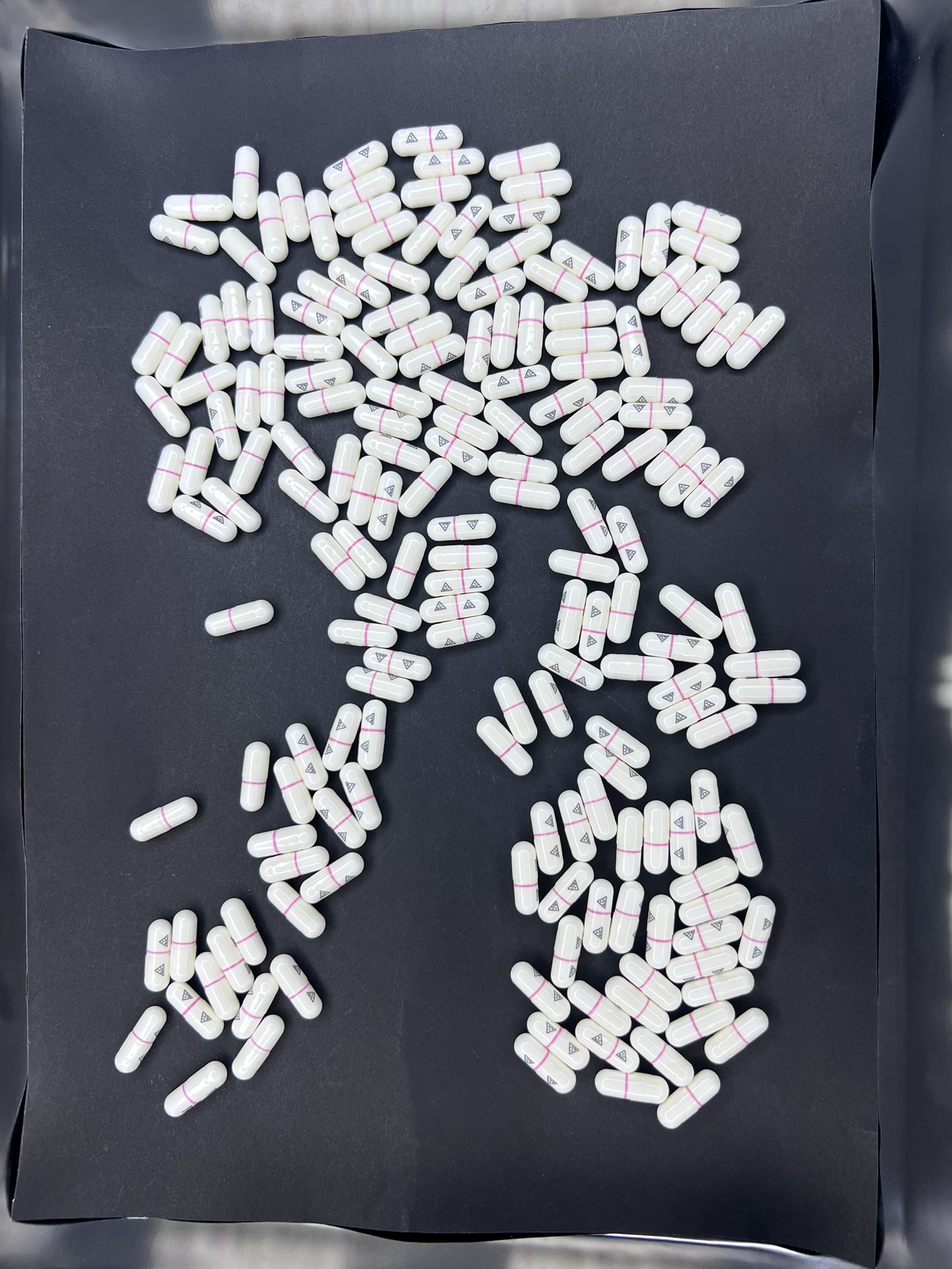Capsule: (628, 1025, 694, 1087), (680, 279, 742, 345), (661, 264, 723, 329), (726, 304, 786, 371), (697, 300, 756, 368), (600, 428, 669, 486), (325, 258, 400, 311), (605, 974, 671, 1034), (514, 1033, 577, 1095), (658, 446, 721, 507), (164, 1059, 228, 1119), (114, 1003, 167, 1075), (658, 1071, 722, 1130), (399, 202, 458, 266), (618, 953, 682, 1012), (643, 426, 708, 484), (704, 1006, 769, 1064), (556, 391, 622, 448), (685, 456, 747, 516), (674, 967, 753, 1014), (562, 419, 626, 477), (582, 744, 647, 801), (512, 960, 571, 1022), (232, 1013, 285, 1082), (526, 1012, 590, 1069), (438, 193, 493, 259), (200, 478, 262, 536), (166, 979, 224, 1041), (270, 953, 322, 1022), (584, 714, 650, 768), (666, 1000, 737, 1050), (267, 879, 327, 938), (309, 532, 368, 592), (668, 856, 740, 905), (134, 376, 190, 439), (655, 686, 727, 735), (539, 860, 592, 926), (549, 239, 615, 292), (526, 256, 597, 305), (659, 585, 722, 640), (207, 925, 256, 995), (668, 943, 744, 988), (483, 399, 543, 456), (676, 881, 751, 926), (299, 271, 365, 322), (339, 324, 398, 381), (271, 422, 326, 483), (220, 227, 275, 288), (477, 716, 532, 777), (352, 208, 419, 258), (195, 950, 243, 1019), (686, 704, 758, 750), (436, 238, 492, 297), (132, 310, 182, 376), (637, 258, 691, 319), (301, 853, 363, 906), (720, 803, 765, 876), (493, 676, 539, 747), (129, 796, 197, 844), (528, 670, 575, 739), (400, 459, 454, 519), (278, 470, 338, 524), (649, 663, 719, 709), (530, 380, 597, 428), (334, 190, 402, 237), (332, 520, 387, 578), (424, 428, 489, 477), (325, 139, 390, 188), (312, 788, 364, 849), (418, 372, 488, 417), (456, 267, 526, 312), (221, 898, 268, 965), (487, 226, 551, 275), (670, 229, 738, 274), (171, 495, 236, 542), (234, 973, 279, 1040), (673, 911, 743, 954), (431, 405, 495, 452), (157, 322, 204, 386), (273, 757, 318, 823), (339, 763, 382, 832), (302, 179, 339, 259), (366, 293, 433, 337), (364, 251, 428, 297), (398, 332, 462, 378), (672, 202, 742, 244), (577, 771, 618, 842), (259, 842, 329, 883), (570, 1015, 626, 1066), (714, 583, 756, 651), (173, 363, 235, 409), (278, 172, 313, 253), (540, 645, 600, 692), (595, 1068, 669, 1106), (229, 427, 270, 495), (488, 143, 561, 181), (389, 312, 452, 356), (149, 215, 216, 256), (739, 896, 777, 968), (282, 294, 347, 336), (480, 364, 549, 403), (285, 724, 327, 788), (567, 488, 611, 549), (560, 791, 598, 861), (607, 505, 647, 571), (331, 167, 395, 208), (147, 444, 185, 513), (365, 376, 432, 415), (387, 534, 427, 599), (491, 196, 561, 233), (550, 550, 621, 586), (499, 169, 572, 204), (204, 600, 273, 637), (608, 881, 643, 953), (324, 706, 362, 771), (346, 457, 381, 527), (353, 404, 421, 440), (578, 591, 612, 663), (568, 980, 619, 1028), (179, 428, 216, 494), (400, 175, 471, 209), (328, 435, 362, 505), (354, 593, 420, 629), (616, 305, 649, 377), (251, 823, 317, 859), (325, 618, 399, 650), (691, 767, 722, 843), (427, 615, 494, 650), (347, 667, 418, 700), (530, 802, 563, 873), (297, 382, 362, 418), (552, 913, 584, 986), (583, 879, 614, 954), (608, 572, 641, 642), (644, 896, 676, 968), (723, 651, 802, 680), (642, 203, 672, 279), (554, 579, 588, 646), (413, 147, 482, 180), (368, 471, 404, 534), (392, 125, 462, 157), (362, 431, 422, 468), (510, 842, 540, 916), (257, 191, 288, 262), (362, 648, 430, 680), (615, 216, 644, 291), (488, 452, 558, 483), (546, 300, 616, 331), (546, 327, 618, 357), (424, 567, 496, 597), (491, 295, 520, 369), (551, 352, 622, 382), (240, 740, 270, 811), (489, 478, 560, 508), (221, 281, 251, 352), (206, 391, 239, 455), (170, 910, 199, 982), (144, 919, 173, 991), (285, 363, 350, 395), (199, 294, 229, 363), (640, 633, 711, 662), (730, 678, 806, 705), (273, 334, 341, 364), (247, 282, 276, 352), (232, 148, 260, 220), (643, 802, 671, 874), (422, 594, 489, 624), (615, 809, 644, 878), (601, 654, 672, 682), (164, 194, 232, 223), (464, 310, 493, 378), (620, 377, 693, 404), (358, 701, 389, 764), (518, 293, 544, 368), (670, 802, 696, 874), (427, 544, 496, 571), (258, 354, 286, 420), (427, 514, 494, 541), (235, 360, 260, 430), (623, 404, 690, 430)
